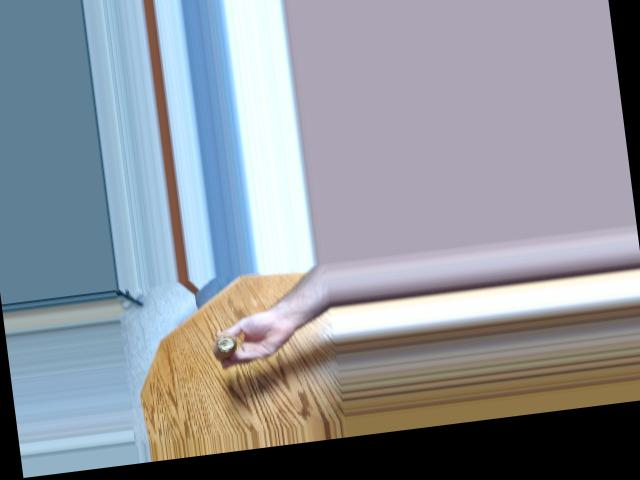sweet_potato: (206, 330, 237, 356)
